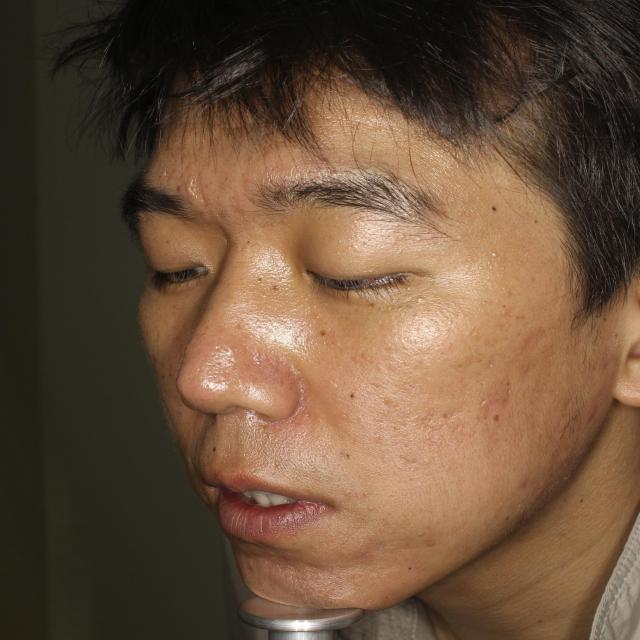comedone: (484, 381, 517, 411)
